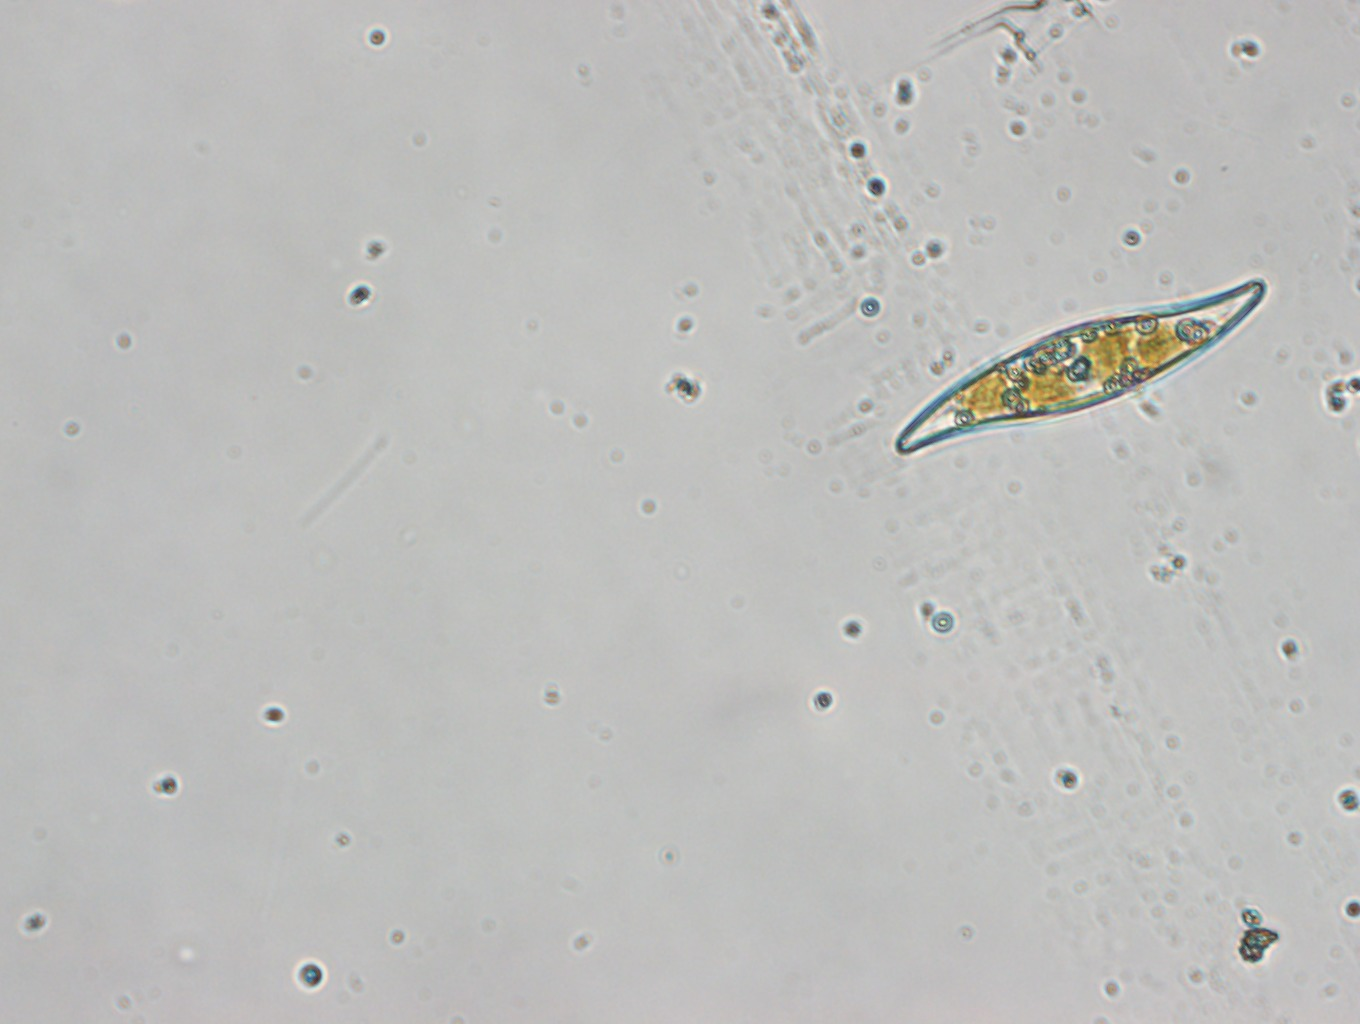pleurosigma pelagicum: (890, 271, 1266, 455)
